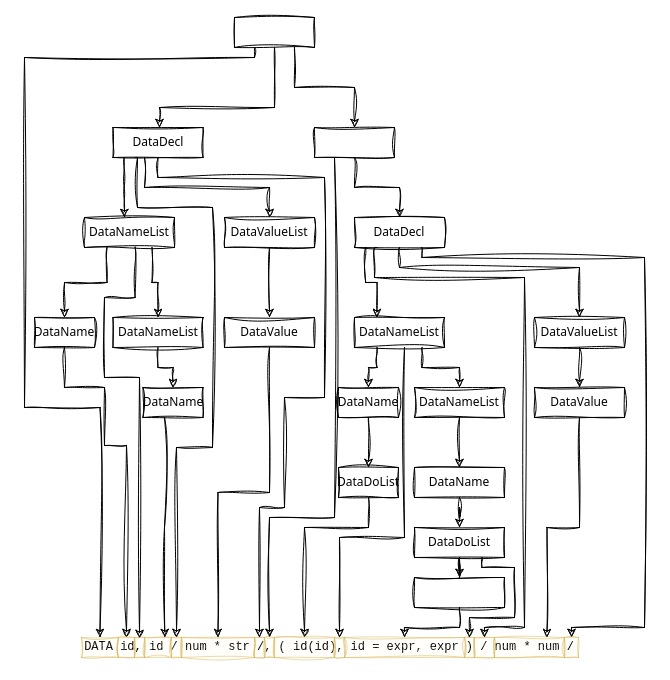
The diagram is 670 pixels wide and 680 high, and some of its shapes have lost their labels. The centre of each missing label's shape, as x and y in pixels:
"DataDeclRest" belongs at [354,142].
"DataDoListRest" belongs at [459,592].
"DataStat" belongs at [274,32].
